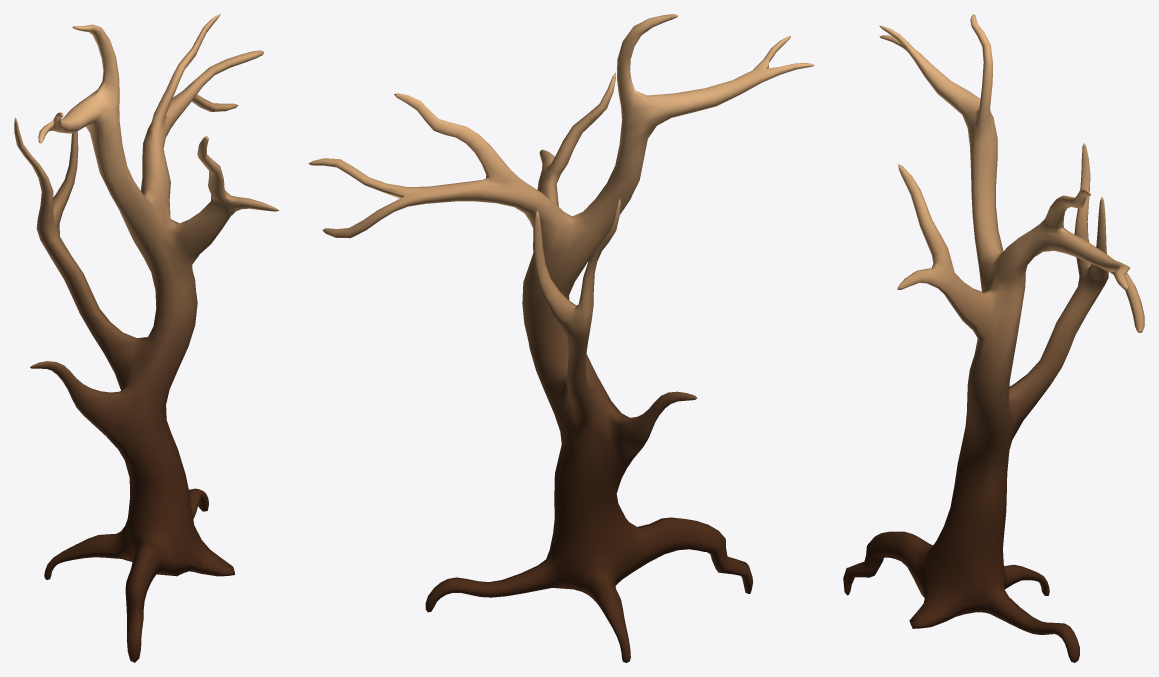
Rendered from M_Object_Tree.fbx.
3 views of the same model, side by side, from view 1: azimuth 30°, elevation 25°; view 2: azimuth 150°, elevation 25°; view 3: azimuth 270°, elevation 25° (orthographic). The views are drawn at different scales.
Parts seen in each view (by area): view 1: Tree; view 2: Tree; view 3: Tree.
Boxes of the visible parts, x1,y1,x2,y2 form: Tree: (14,14,279,662); Tree: (308,14,814,662); Tree: (843,14,1144,662).
Size of the model in its own units: 162 by 261 by 122.
